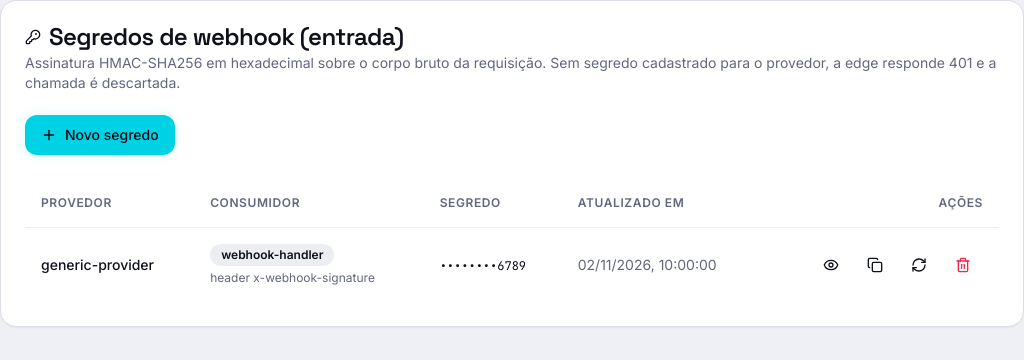
Test: WebhookSecretsCard › revela e copia o valor completo quando o admin pede
Later steps or results of the test are not shown.
Click the button named "Revelar segredo de generic-provider". click: click(831, 264)
box: [811,244,851,284]
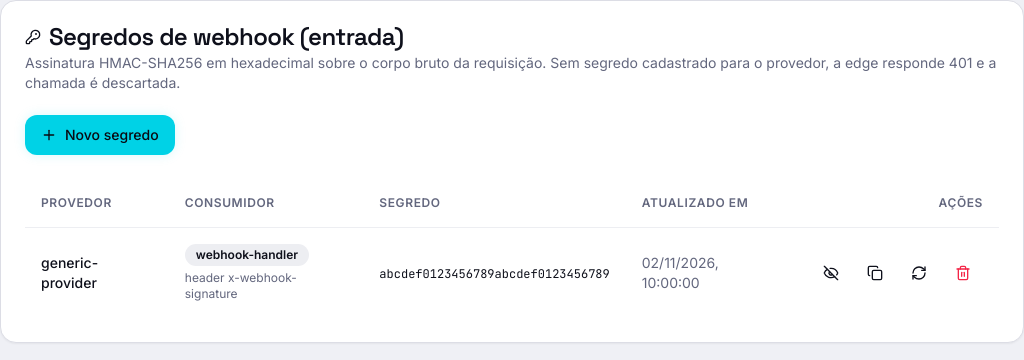
Result: the text "abcdef0123456789abcdef0123456789" is shown at [379,266,610,282]
